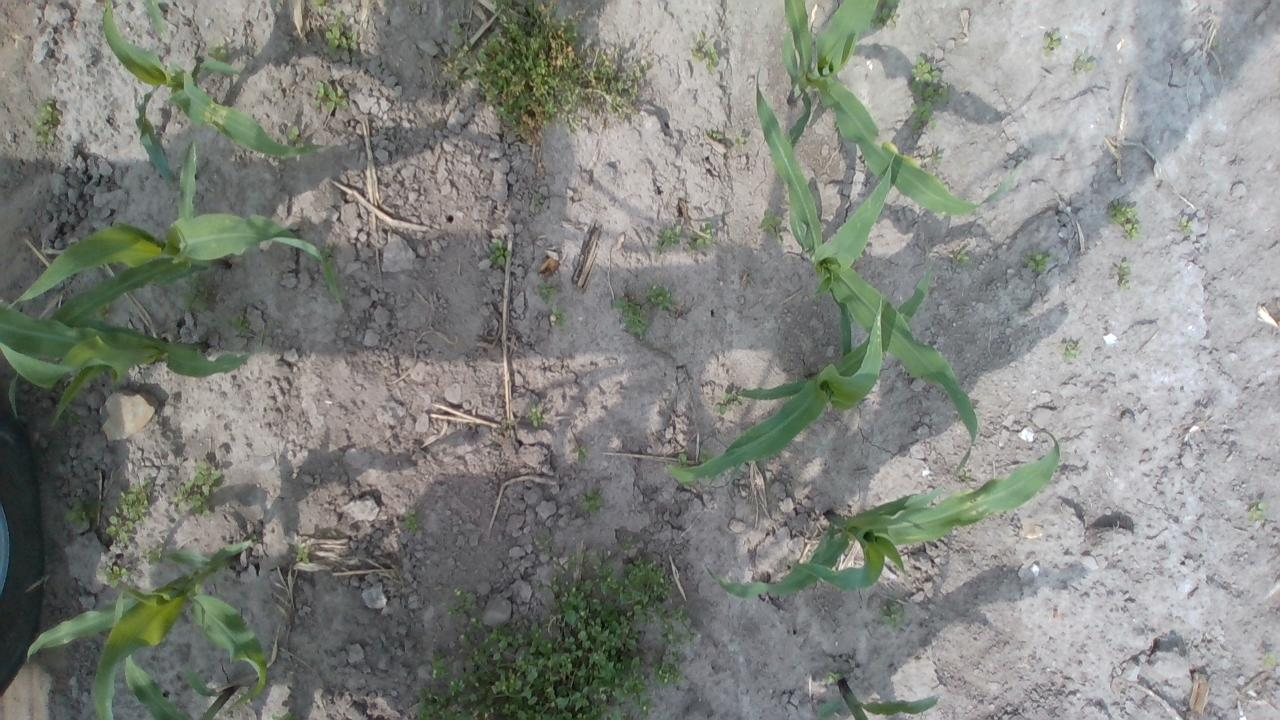Maize: (4, 140, 350, 420), (752, 64, 979, 478), (664, 246, 938, 484), (703, 428, 1062, 602), (779, 0, 1030, 218), (23, 532, 271, 720), (100, 0, 330, 193), (0, 294, 264, 428), (122, 652, 246, 720), (815, 671, 942, 720), (138, 0, 172, 38)
Weeds: (416, 536, 700, 720), (444, 0, 650, 148), (99, 480, 160, 586), (610, 283, 676, 341), (911, 52, 948, 132), (174, 459, 222, 514), (318, 15, 361, 58), (657, 222, 715, 252), (1109, 195, 1143, 240), (34, 98, 64, 144), (308, 78, 346, 112), (538, 285, 566, 325), (707, 129, 749, 155), (868, 0, 902, 31), (762, 211, 791, 244), (578, 487, 610, 516), (688, 43, 724, 68), (181, 282, 211, 312), (714, 389, 742, 418), (485, 237, 511, 265), (880, 601, 906, 627), (679, 449, 711, 469), (64, 507, 90, 531), (1060, 338, 1084, 364), (1114, 260, 1134, 290), (206, 42, 232, 65), (231, 312, 253, 339), (1042, 28, 1060, 59), (1027, 250, 1050, 274), (287, 124, 309, 147), (1246, 501, 1270, 522), (1074, 52, 1094, 74), (570, 442, 590, 463), (524, 408, 544, 428), (94, 300, 112, 322), (954, 246, 971, 267), (401, 509, 418, 530), (294, 545, 310, 566), (923, 150, 942, 166), (1264, 650, 1278, 670), (826, 670, 843, 684), (958, 466, 972, 483), (307, 0, 325, 13), (1180, 218, 1193, 234), (534, 192, 544, 211)
